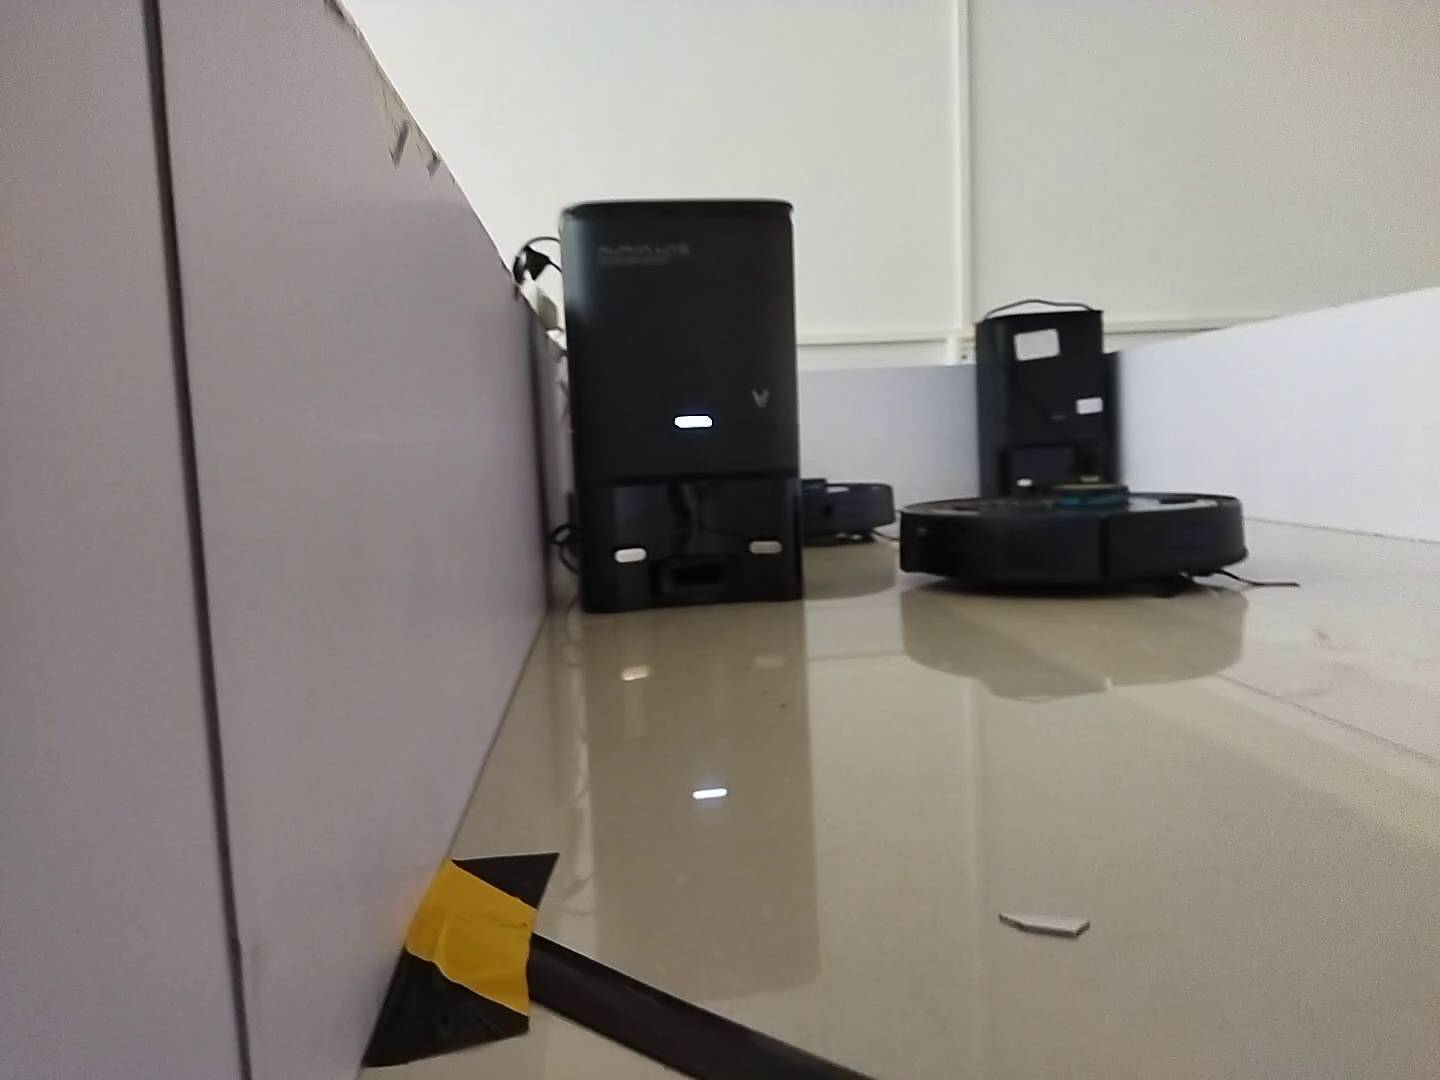dust collecting barrel: (558, 202, 807, 611), (977, 314, 1110, 490)
